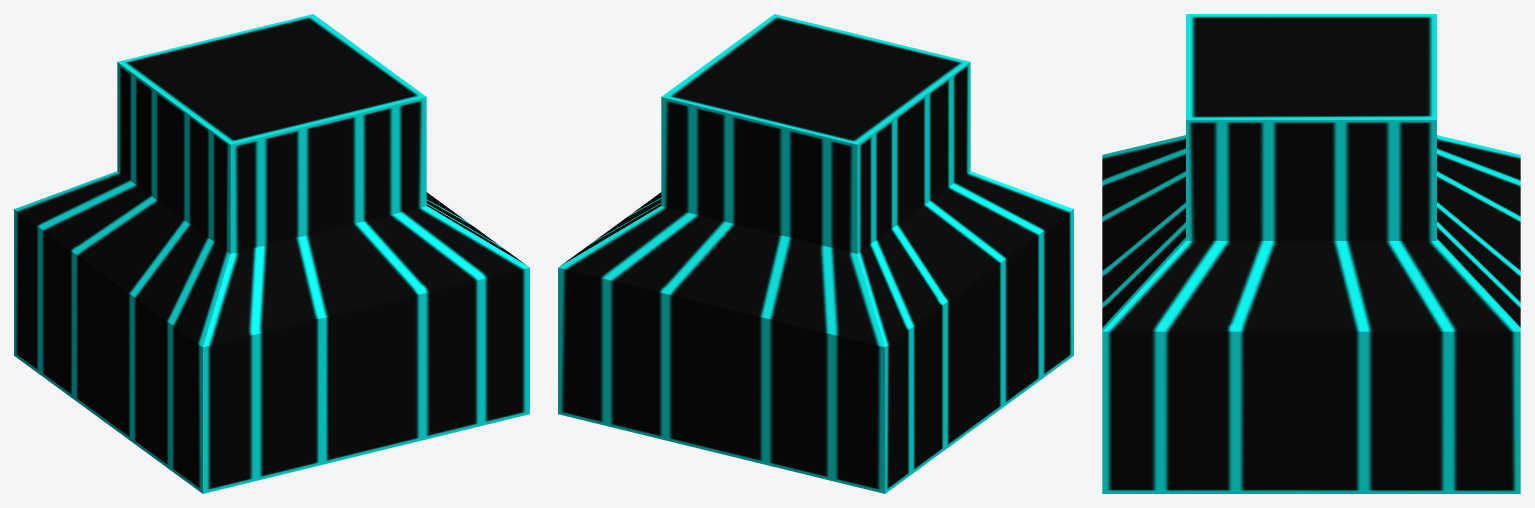
Rendered from SM_City08.fbx.
3 renders of one model, left to right at view 1: azimuth 30°, elevation 25°; view 2: azimuth 150°, elevation 25°; view 3: azimuth 270°, elevation 25°, orthographic. The views are drawn at different scales.
Visible parts, largest first — view 1: SM_City08; view 2: SM_City08; view 3: SM_City08.
Boxes of the visible parts, x1=… form: SM_City08: x1=14, y1=14, x2=529, y2=493; SM_City08: x1=558, y1=14, x2=1073, y2=493; SM_City08: x1=1102, y1=14, x2=1520, y2=493.
Size of the model in its own units: 106 by 94.42 by 106.
Materials: 1 (1 with a texture image).
